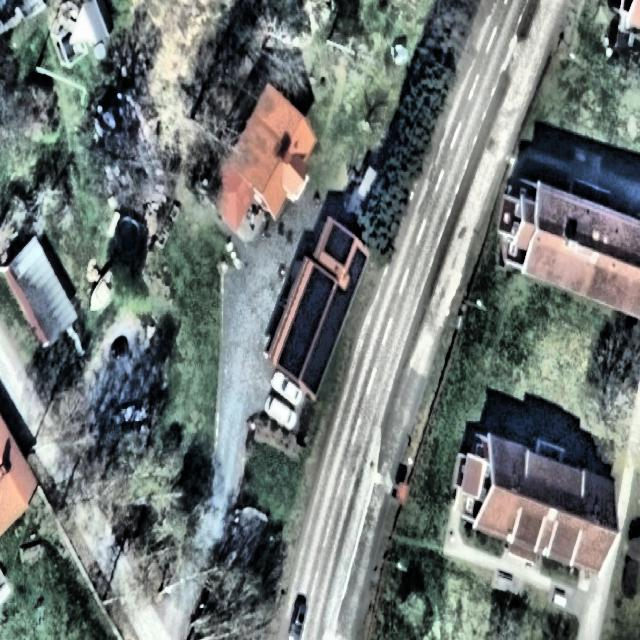roof_pv: (275, 308, 321, 377), (297, 262, 338, 316), (304, 329, 336, 394), (320, 223, 354, 268), (343, 240, 370, 280), (324, 299, 349, 339), (335, 266, 359, 305)
